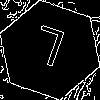L: (25, 25, 68, 76)
